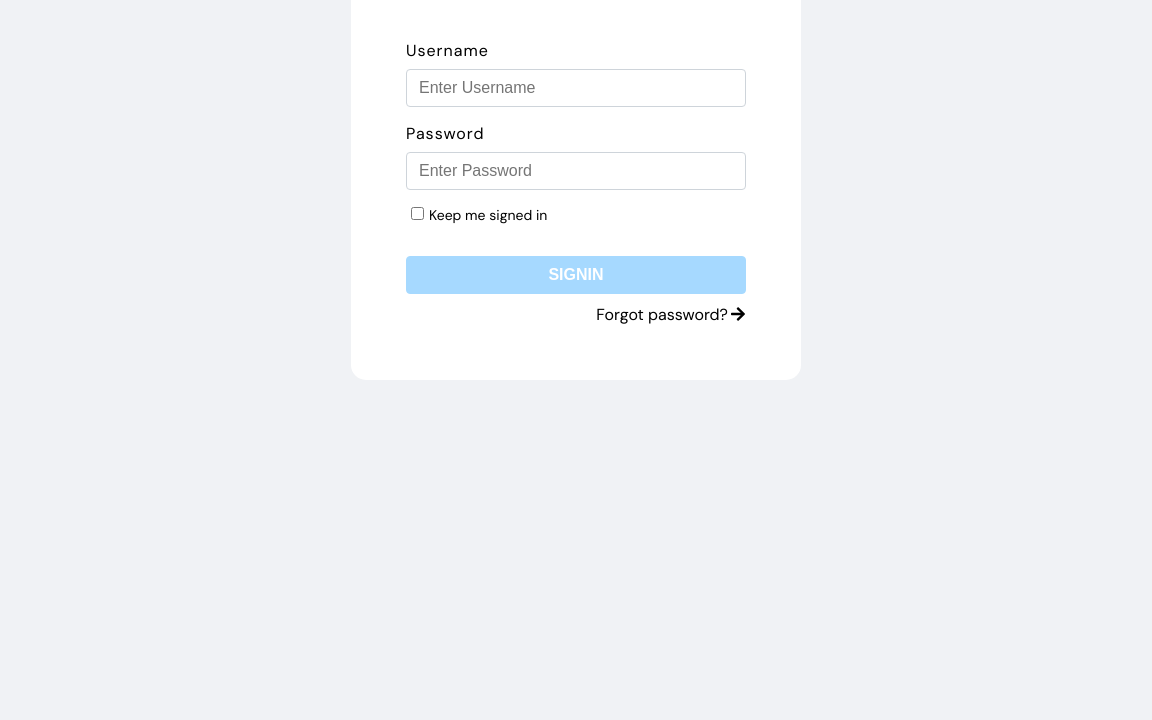
Test: SigIn › Button › should change label when clicked
Type "manny" into the field labelled "Username" at (576, 88), box [406,69,746,107]
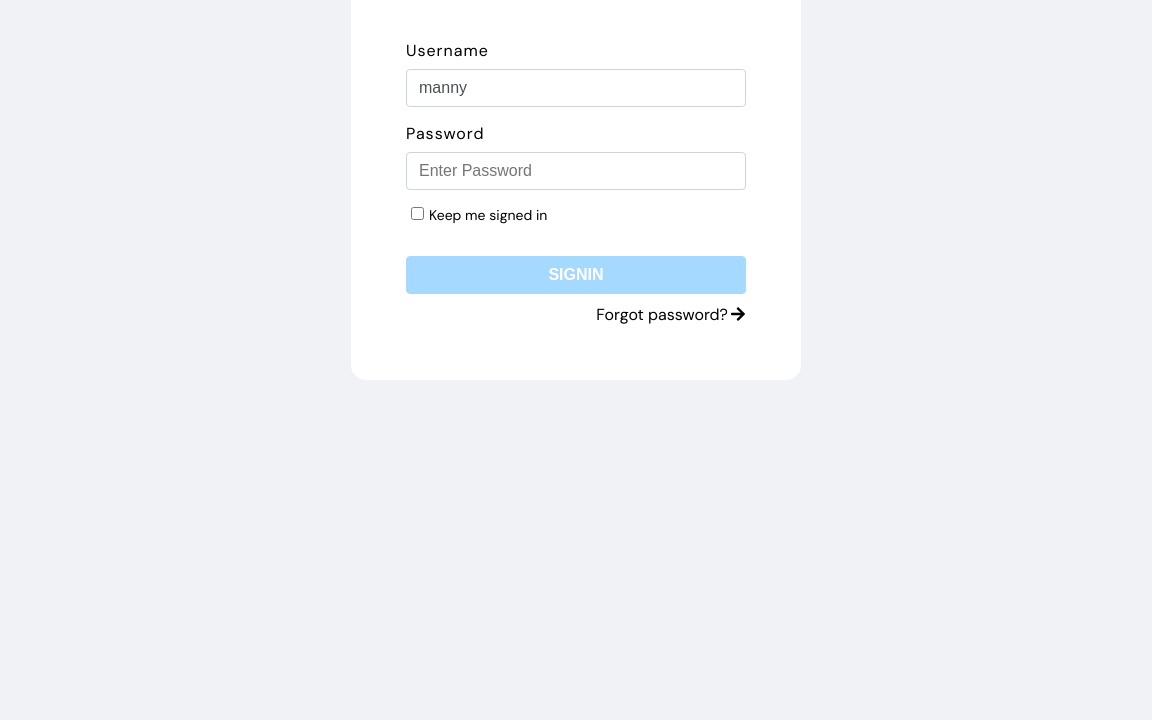
Type "qwerty" into the password field labelled "Password" at (576, 171), box [406,152,746,190]
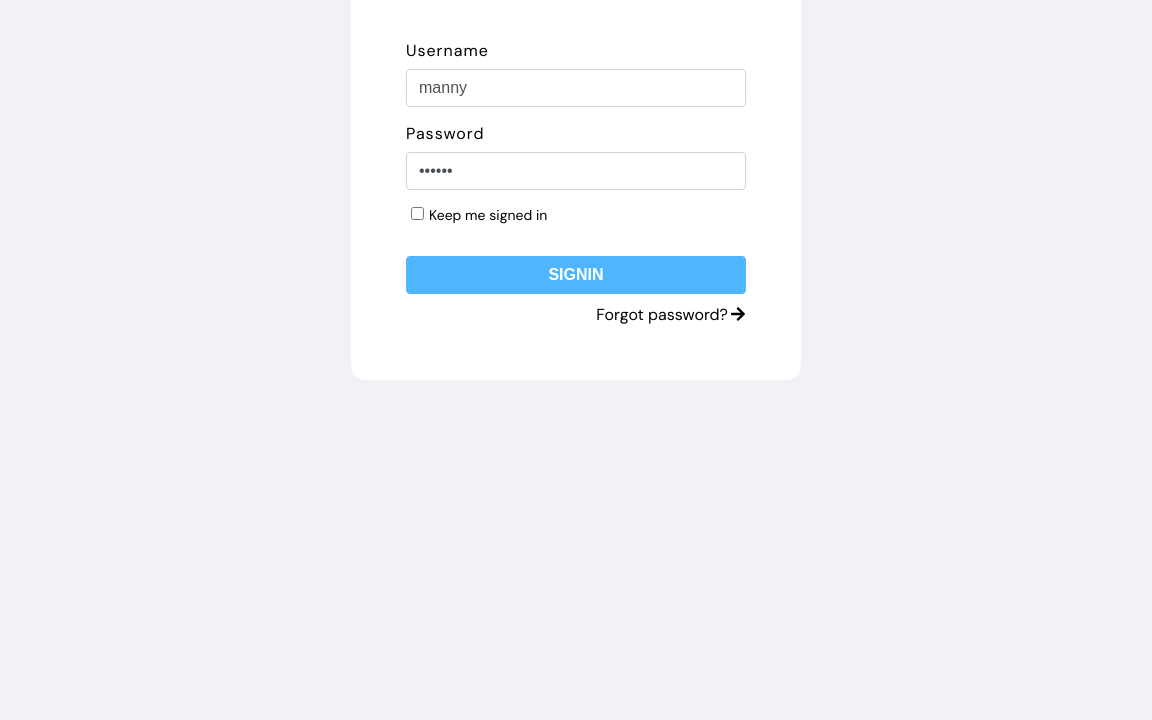
Click the button at (576, 275), box [406,256,746,294]
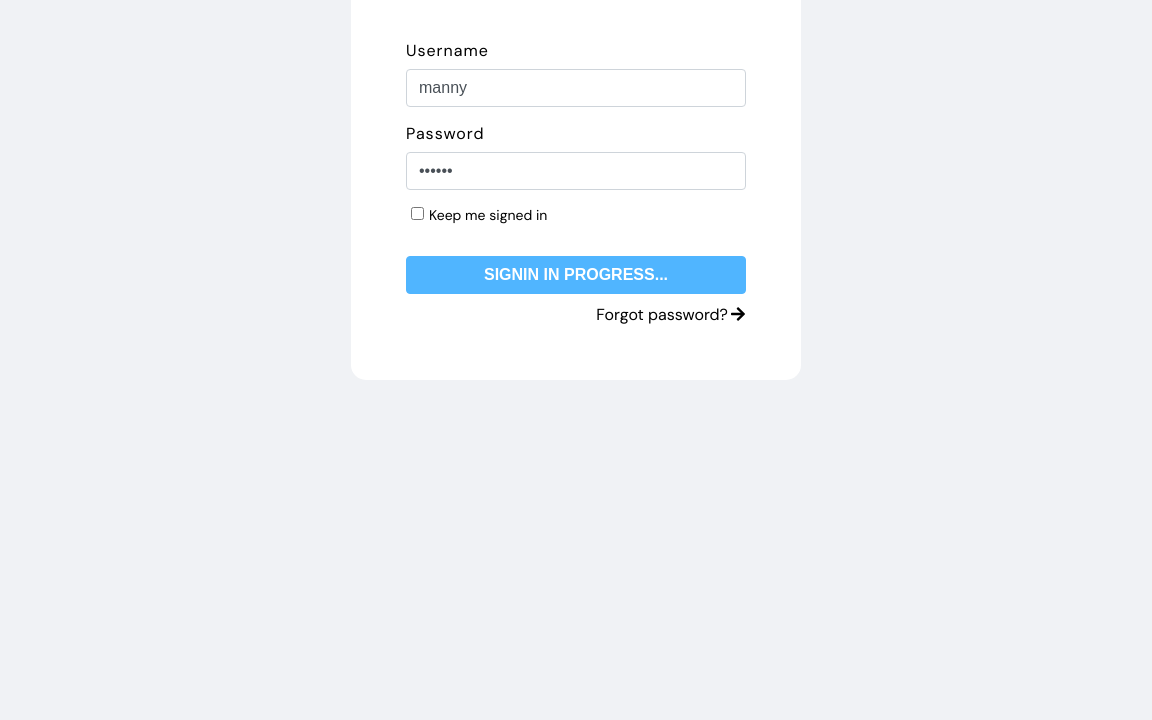
Expected: the button reads "SIGNIN IN PROGRESS...", [406,256,746,294]
